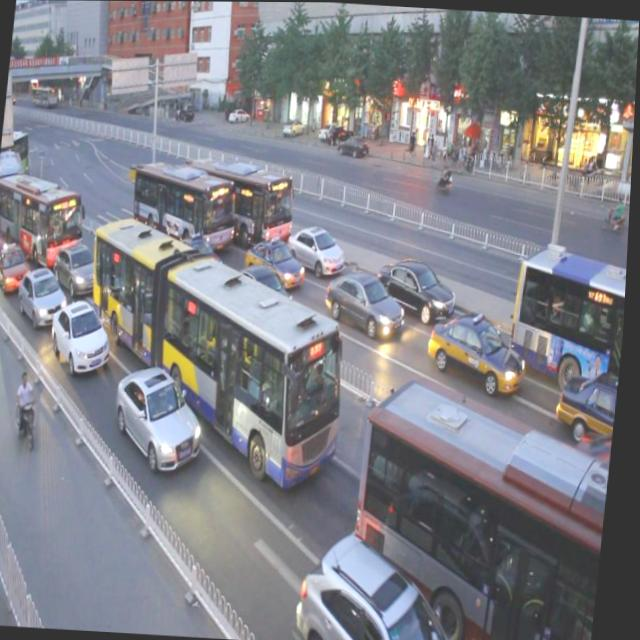car: (295, 522, 479, 640), (113, 362, 212, 474), (428, 305, 535, 400), (324, 262, 410, 341), (564, 429, 618, 543), (378, 251, 463, 322), (53, 298, 120, 374), (244, 229, 310, 293), (559, 369, 623, 432), (286, 217, 350, 279), (171, 232, 233, 290), (21, 265, 73, 332), (235, 259, 299, 313), (55, 240, 106, 298), (0, 235, 36, 295)
van: (74, 210, 364, 490), (349, 370, 622, 640), (510, 241, 630, 384), (128, 152, 244, 262), (185, 149, 302, 250), (0, 167, 91, 262)
